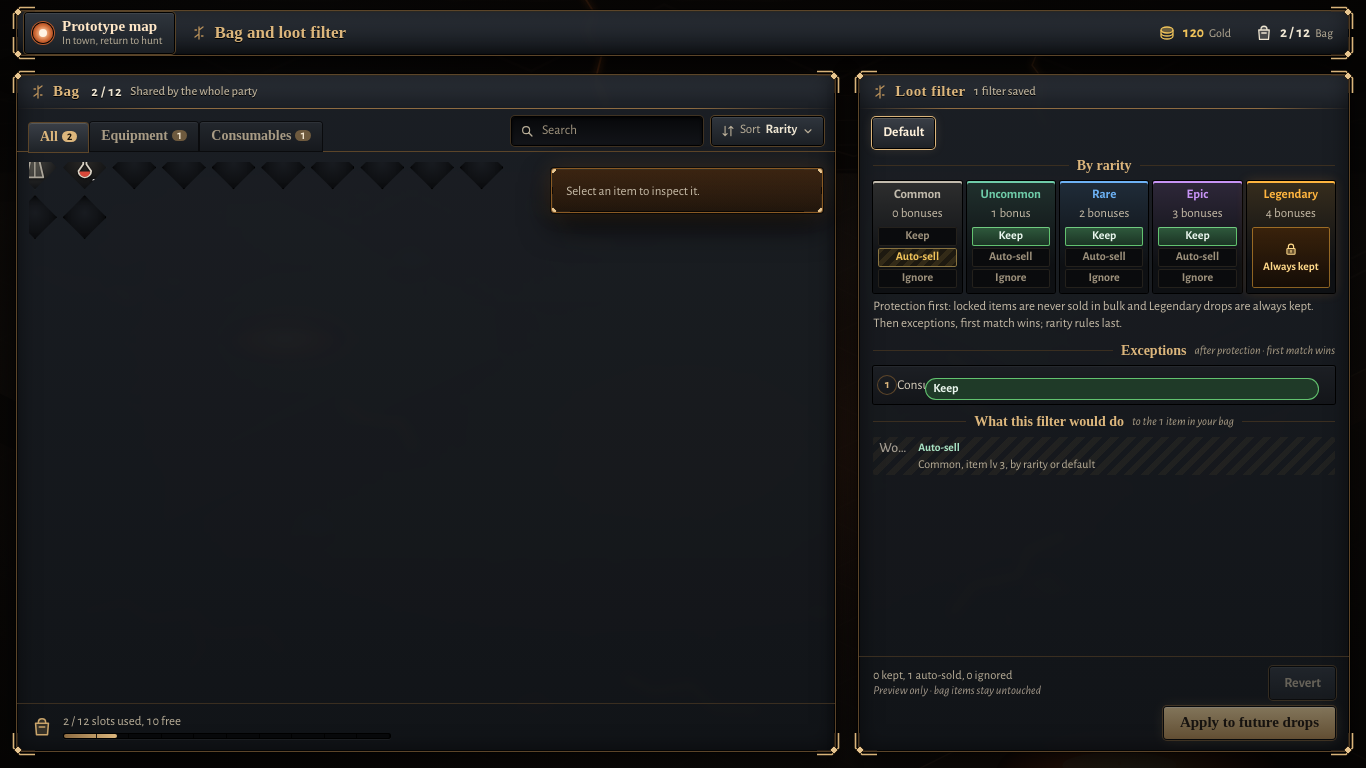
Scenario: the filter pane › the rarity draft is local, marked edited, previewed through the evaluator, and revertable
Expected: the text "edited" is not shown
What coordinates should you click on to do the following:
click the radio button labelled "Keep" below "0 bonuses"
I would click on:
 (917, 236)
Its box is top-left (878, 227), bottom-right (957, 246).
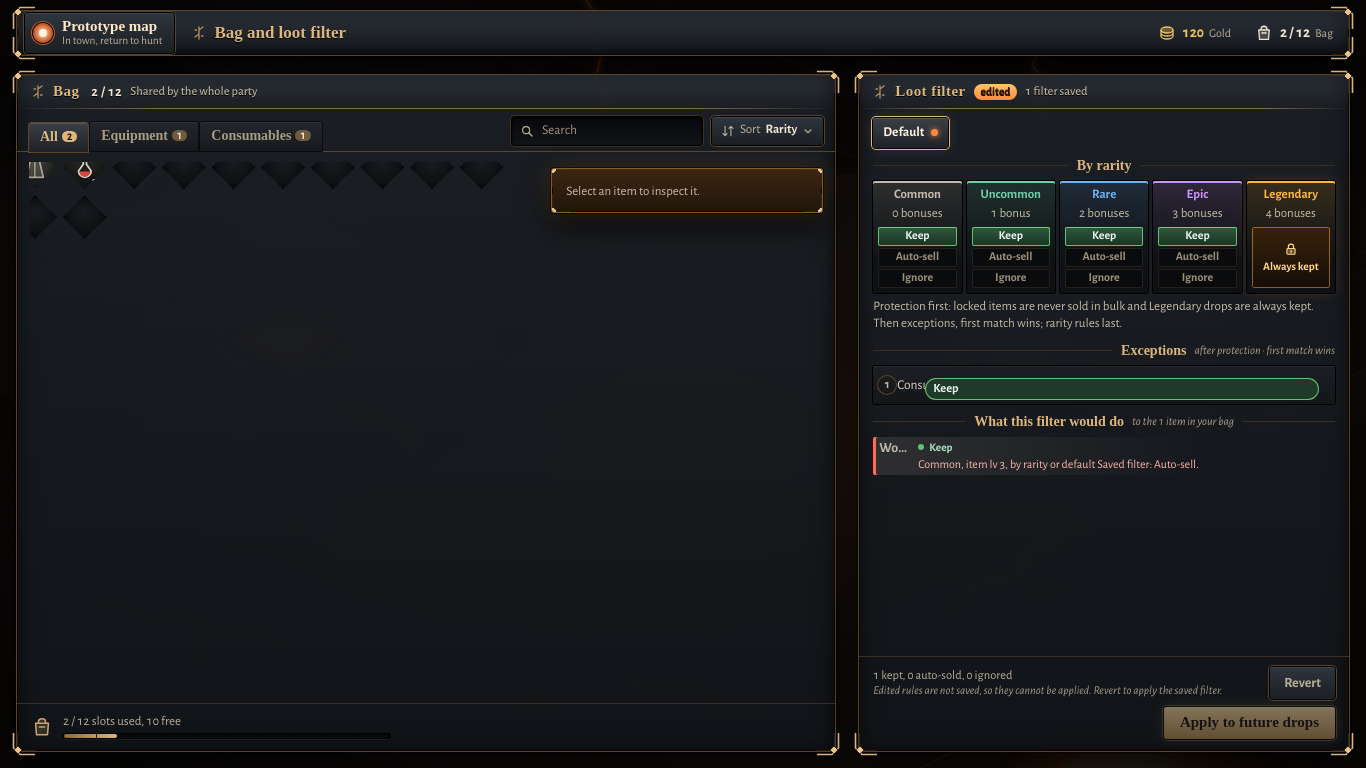
Now the text "edited" is shown, box top-left (974, 84), bottom-right (1017, 100)
Now the list item with class "drop" shows "Keep", box top-left (929, 442), bottom-right (953, 453)
What coordinates should you click on to do the following:
click the button "Revert"
I would click on:
 (1303, 683)
Its box is top-left (1270, 667), bottom-right (1335, 699).
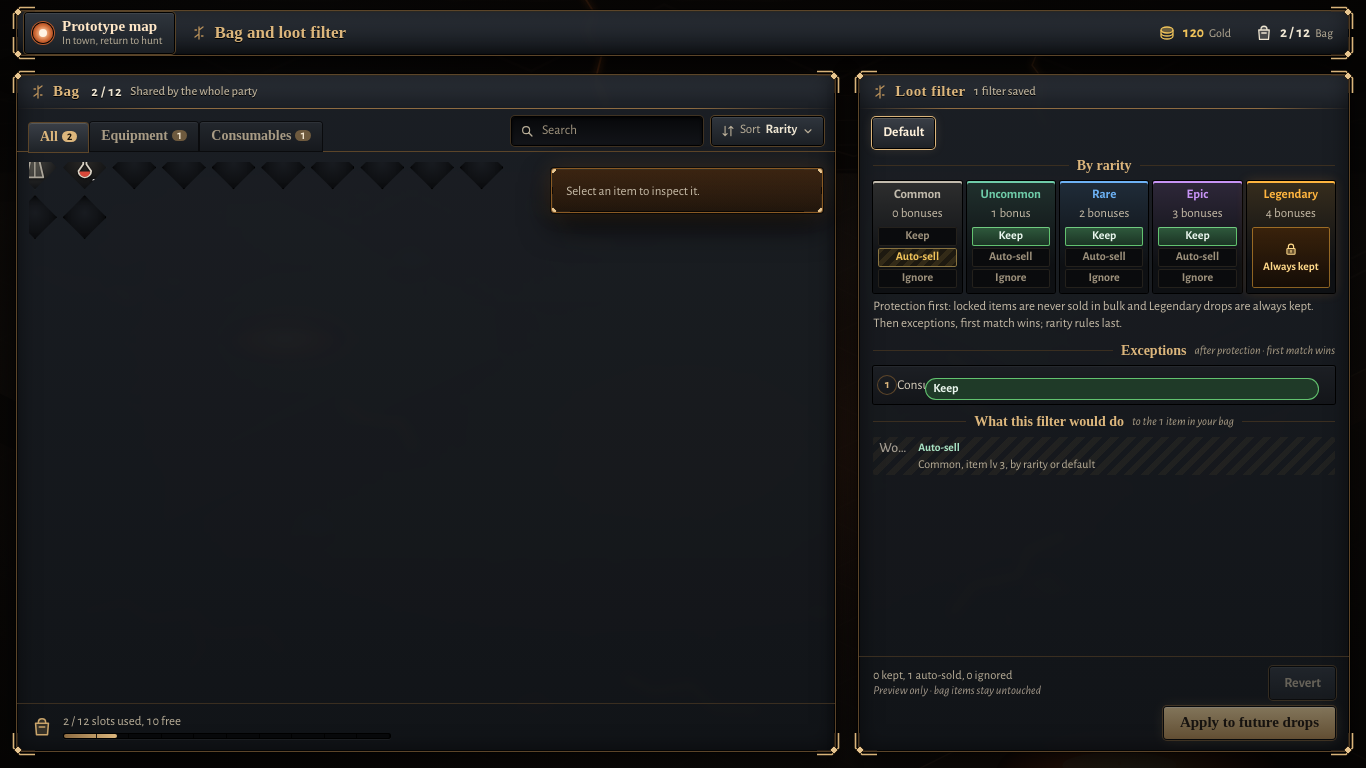
Now the text "edited" is gone
